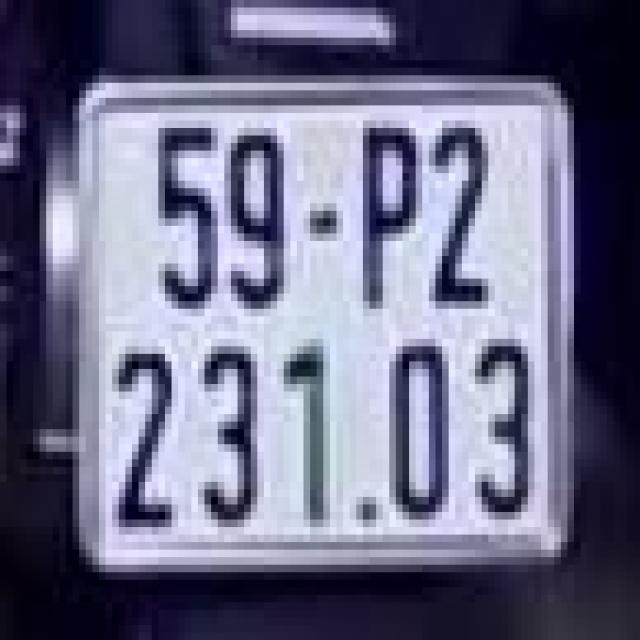0: (383, 339, 462, 527)
1: (277, 335, 350, 531)
2: (102, 342, 182, 538), (429, 109, 501, 320)
3: (198, 342, 270, 530), (468, 331, 534, 527)
5: (145, 106, 224, 316)
9: (224, 113, 297, 324)
P: (343, 113, 429, 331)
